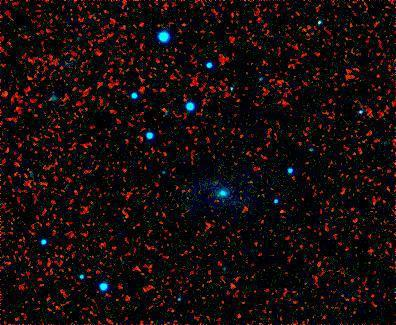star: (201, 186, 231, 216)
